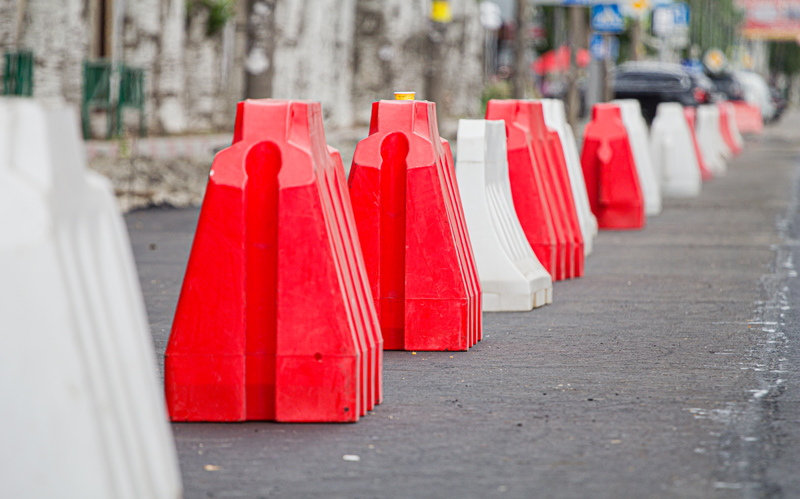Barrier: (169, 60, 611, 425)
